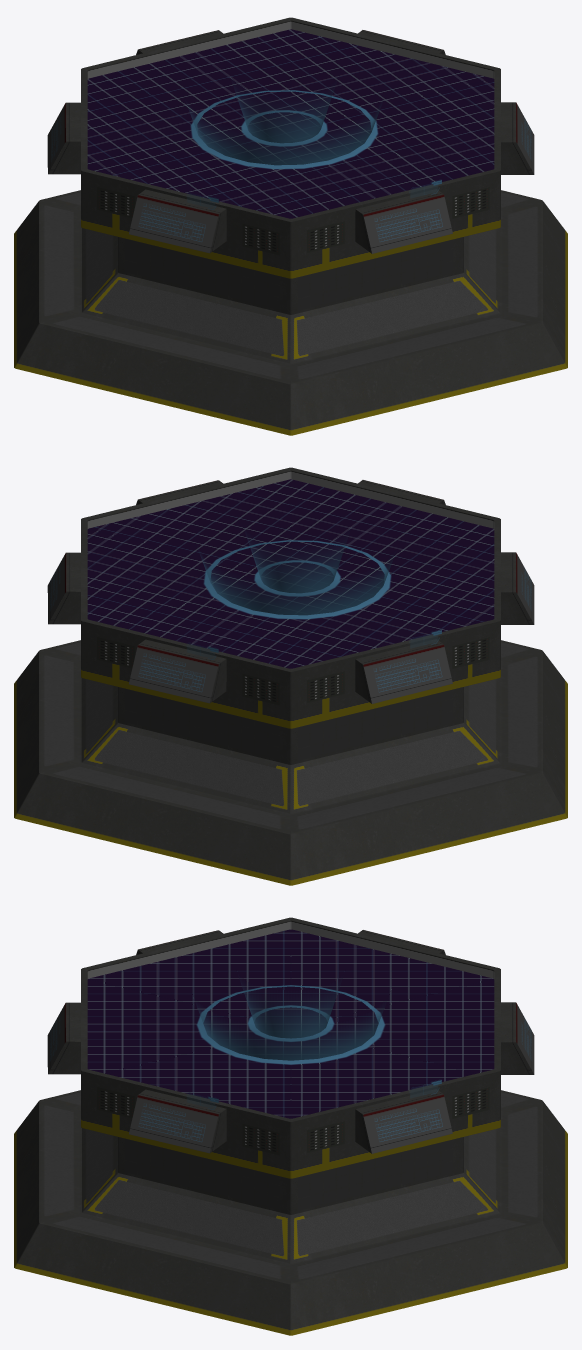
3 renders of one model, top to bottom at view 1: azimuth 30°, elevation 25°; view 2: azimuth 150°, elevation 25°; view 3: azimuth 270°, elevation 25°, orthographic.
Visible parts, largest first — view 1: Table3, Table2, Table4; view 2: Table3, Table2, Table4; view 3: Table3, Table2, Table4.
Boxes of the visible parts, x1,y1,x2,y2 form: Table3: [14, 17, 567, 435]; Table2: [188, 87, 381, 169]; Table4: [51, 115, 531, 241]; Table3: [14, 467, 567, 885]; Table2: [200, 537, 393, 619]; Table4: [50, 564, 531, 692]; Table3: [14, 917, 567, 1335]; Table2: [196, 983, 385, 1064]; Table4: [50, 1014, 531, 1142].
Bounding box in the file's own units: 3.34 × 1.4 × 2.9.
3 materials, 3 textured.
